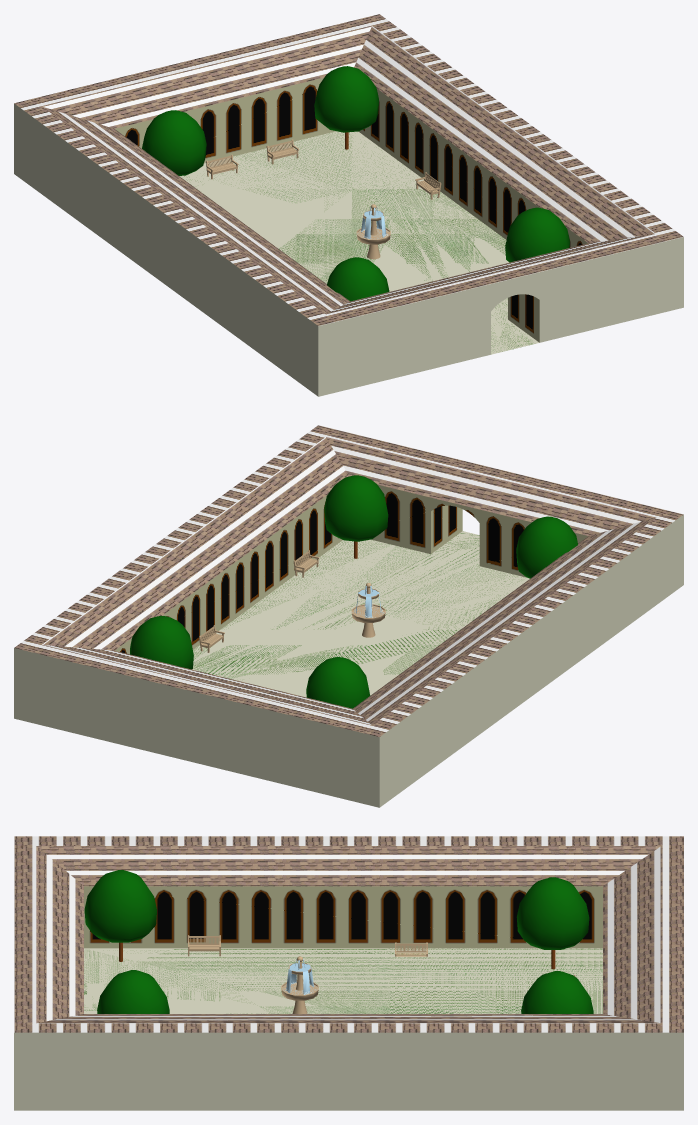
3 renders of one model, top to bottom at view 1: azimuth 30°, elevation 25°; view 2: azimuth 150°, elevation 25°; view 3: azimuth 270°, elevation 25°, orthographic. The views are drawn at different scales.
Visible parts, largest first — view 1: SketchUp (×5), ske24 (×4); view 2: SketchUp (×5), ske24 (×4); view 3: SketchUp (×5), ske24 (×4).
Boxes of the visible parts, x1,y1,x2,y2 form: SketchUp (×5): [14, 14, 683, 396]; ske24 (×4): [142, 66, 569, 301]; SketchUp (×5): [14, 425, 683, 807]; ske24 (×4): [130, 475, 577, 708]; SketchUp (×5): [14, 836, 683, 1110]; ske24 (×4): [84, 870, 593, 1013].
Bounding box in the file's own units: 1006 × 1451 × 228.
10 materials, 3 textured.
